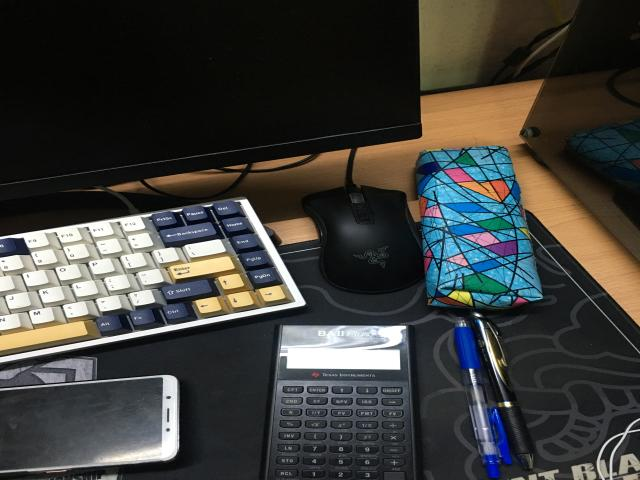Mobile phone: (0, 375, 180, 474)
Mouse: (302, 148, 423, 293)
Pen: (450, 311, 539, 480)
wire: (597, 418, 640, 480)
